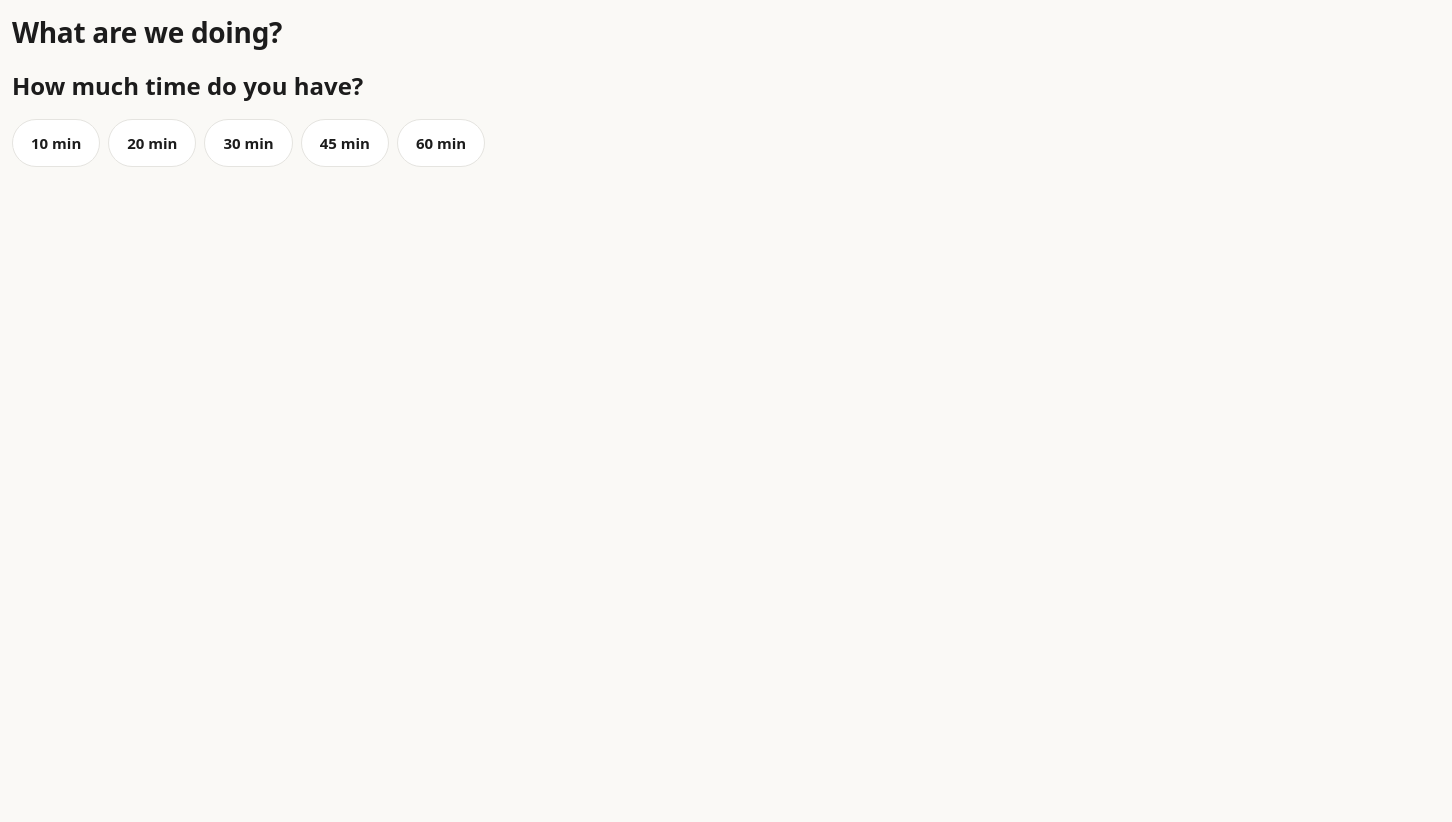
Scenario: Missions page › combines supplies across every task in the mission into one gather list
Click the button "20 min" at (152, 143), box x1=108 y1=119 x2=196 y2=167
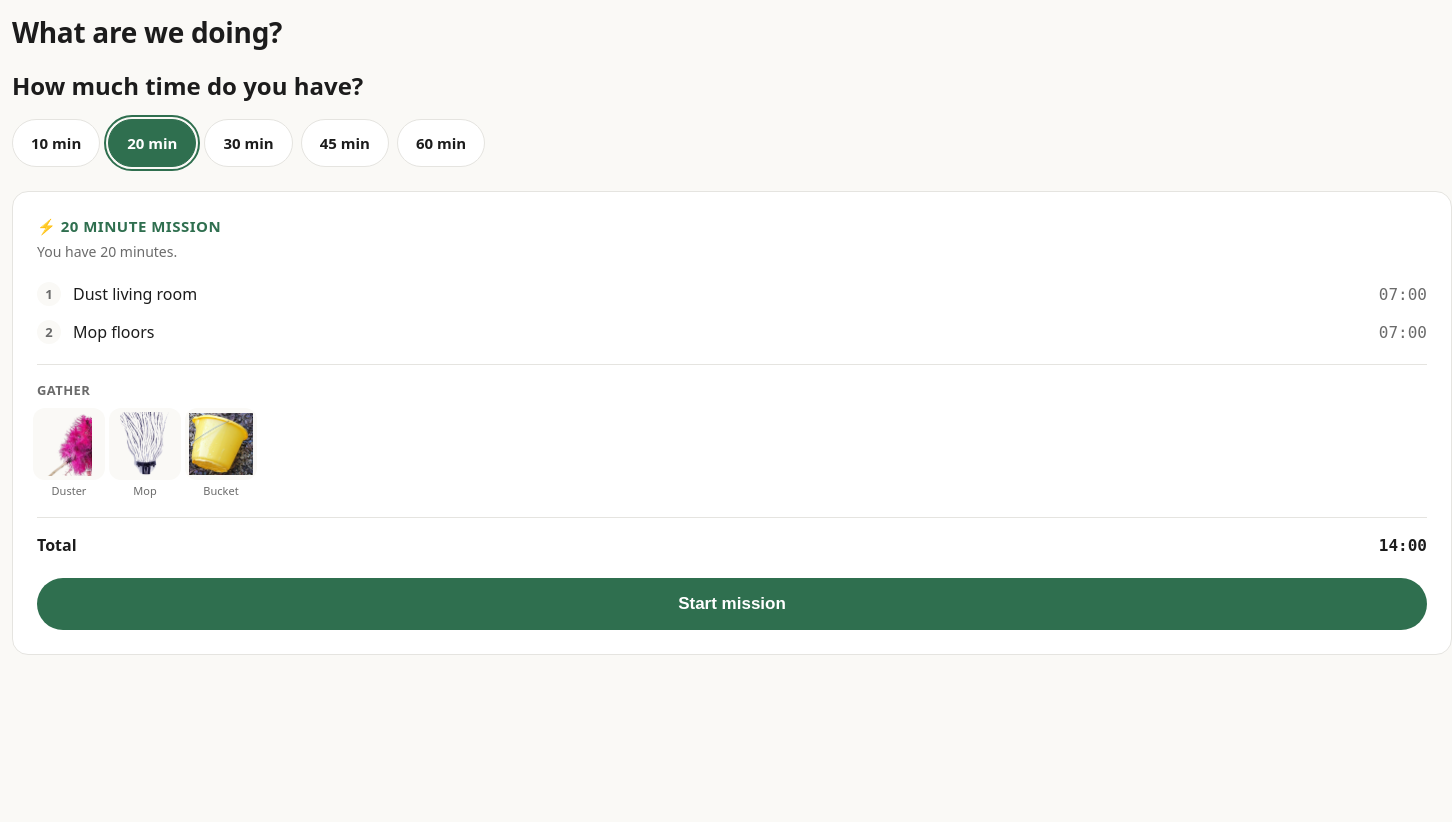
Now the text "Mop" is shown, box x1=133 y1=484 x2=157 y2=498
Now the text "Bucket" is shown, box x1=203 y1=484 x2=239 y2=498
Now the text "Duster" is shown, box x1=52 y1=484 x2=86 y2=498
